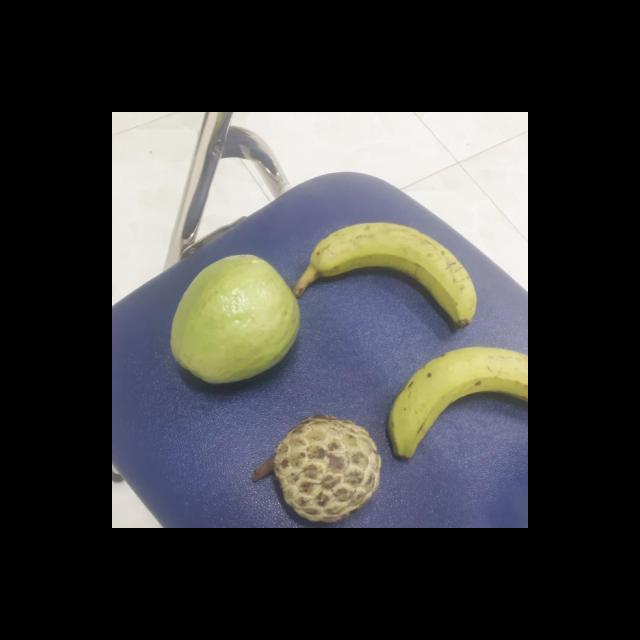Sakya fruit: (252, 413, 378, 524)
banana: (288, 226, 470, 330), (386, 344, 528, 456)
guava: (165, 255, 299, 384)
